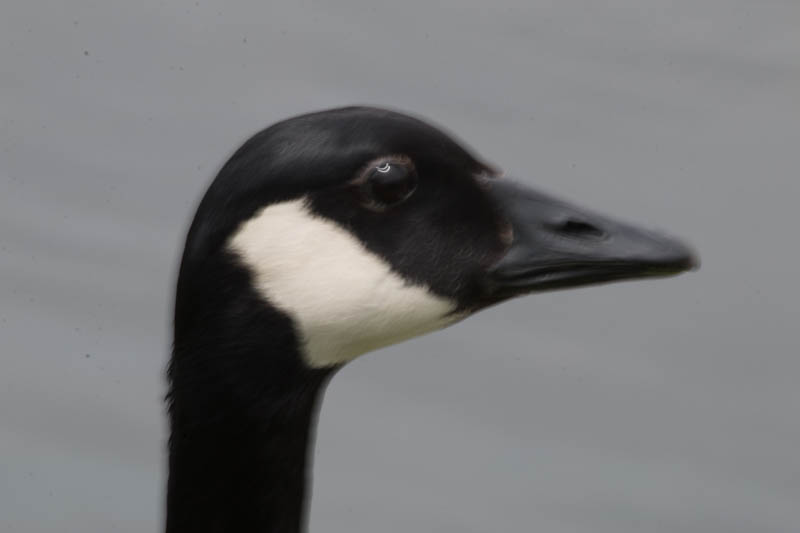goose-head: (172, 104, 703, 373)
